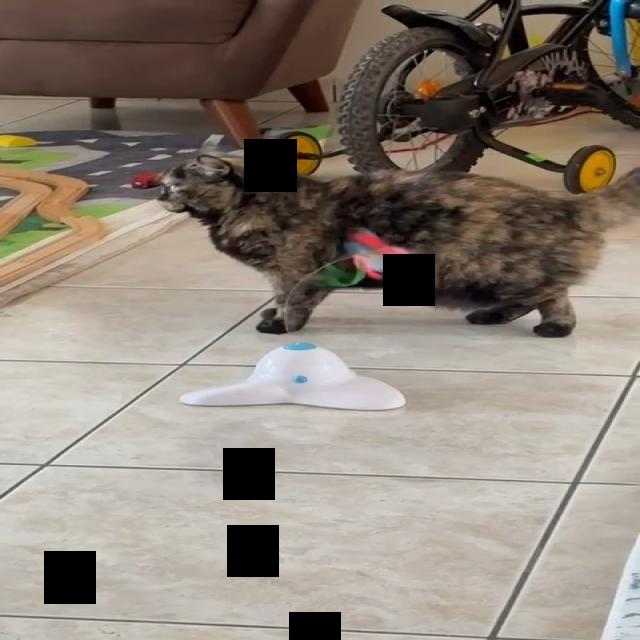authorized: (153, 152, 639, 338)
